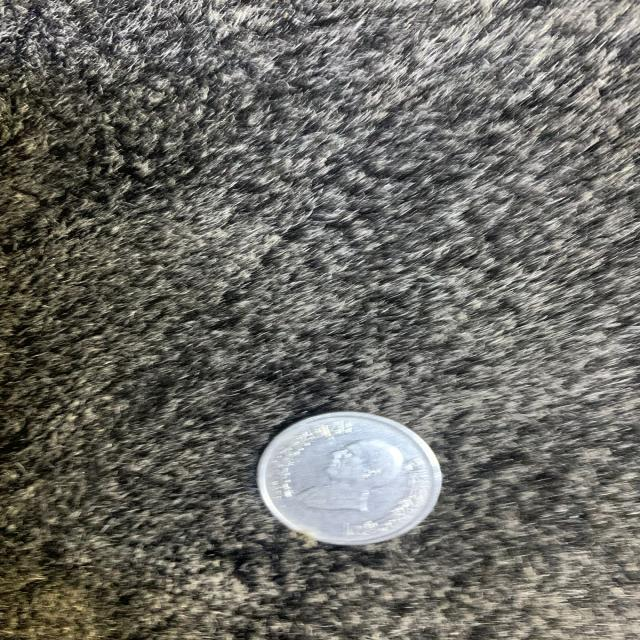10-coins: (256, 410, 442, 547)
